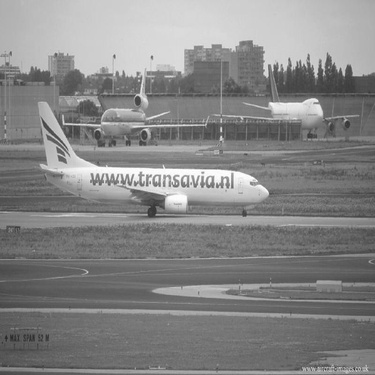airplane: (16, 81, 285, 232), (192, 54, 366, 152), (47, 65, 215, 156)
